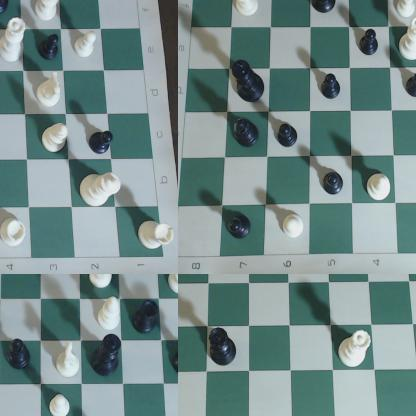black-bishop: (230, 116, 263, 152)
black-king: (230, 56, 268, 107), (93, 334, 123, 378)
black-pawn: (87, 122, 116, 158), (359, 27, 385, 67), (226, 208, 254, 242), (275, 119, 303, 153), (36, 30, 64, 63), (320, 71, 346, 102), (9, 337, 33, 370), (321, 169, 346, 199), (409, 71, 416, 103)
black-queen: (208, 324, 238, 367), (314, 1, 340, 20)
black-rook: (134, 297, 161, 333)
white-bishop: (41, 123, 72, 155), (98, 296, 123, 333), (229, 1, 262, 24), (36, 1, 61, 22)
white-king: (80, 173, 125, 213)
white-knight: (35, 74, 67, 109), (57, 343, 83, 380), (88, 275, 115, 291)
white-pawn: (279, 208, 318, 248), (366, 171, 398, 207), (72, 27, 98, 63), (50, 393, 72, 416)
white-queen: (337, 327, 373, 371), (1, 17, 29, 63), (399, 19, 416, 61)
white-rook: (138, 219, 174, 253), (1, 213, 32, 250)
